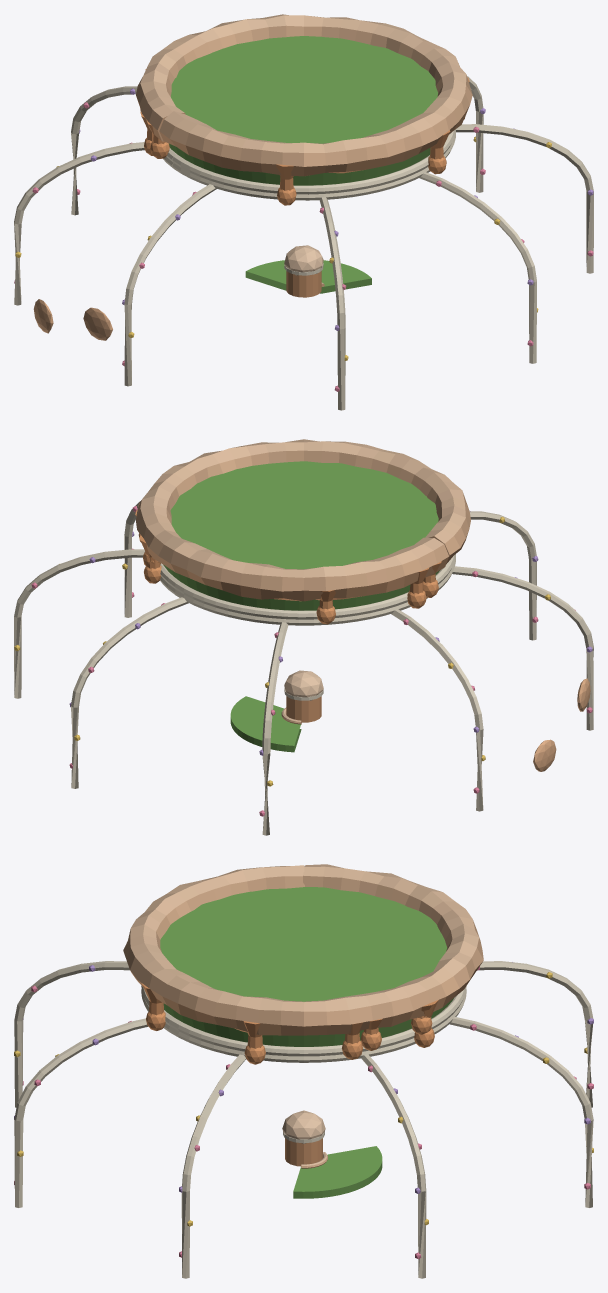
File: goo_jar_trim_3_top@garden.fbx
3 renders of one model, top to bottom at view 1: azimuth 30°, elevation 25°; view 2: azimuth 150°, elevation 25°; view 3: azimuth 270°, elevation 25°, orthographic. The views are drawn at different scales.
Parts seen in each view (by area): view 1: goo_jar_trim_3_top; view 2: goo_jar_trim_3_top; view 3: goo_jar_trim_3_top.
Part boxes in pixels (x1,y1,x2,y2): goo_jar_trim_3_top: [14, 14, 593, 410]; goo_jar_trim_3_top: [14, 439, 593, 835]; goo_jar_trim_3_top: [14, 864, 593, 1278].
Size of the model in its own units: 47.35 by 20.21 by 45.43.
